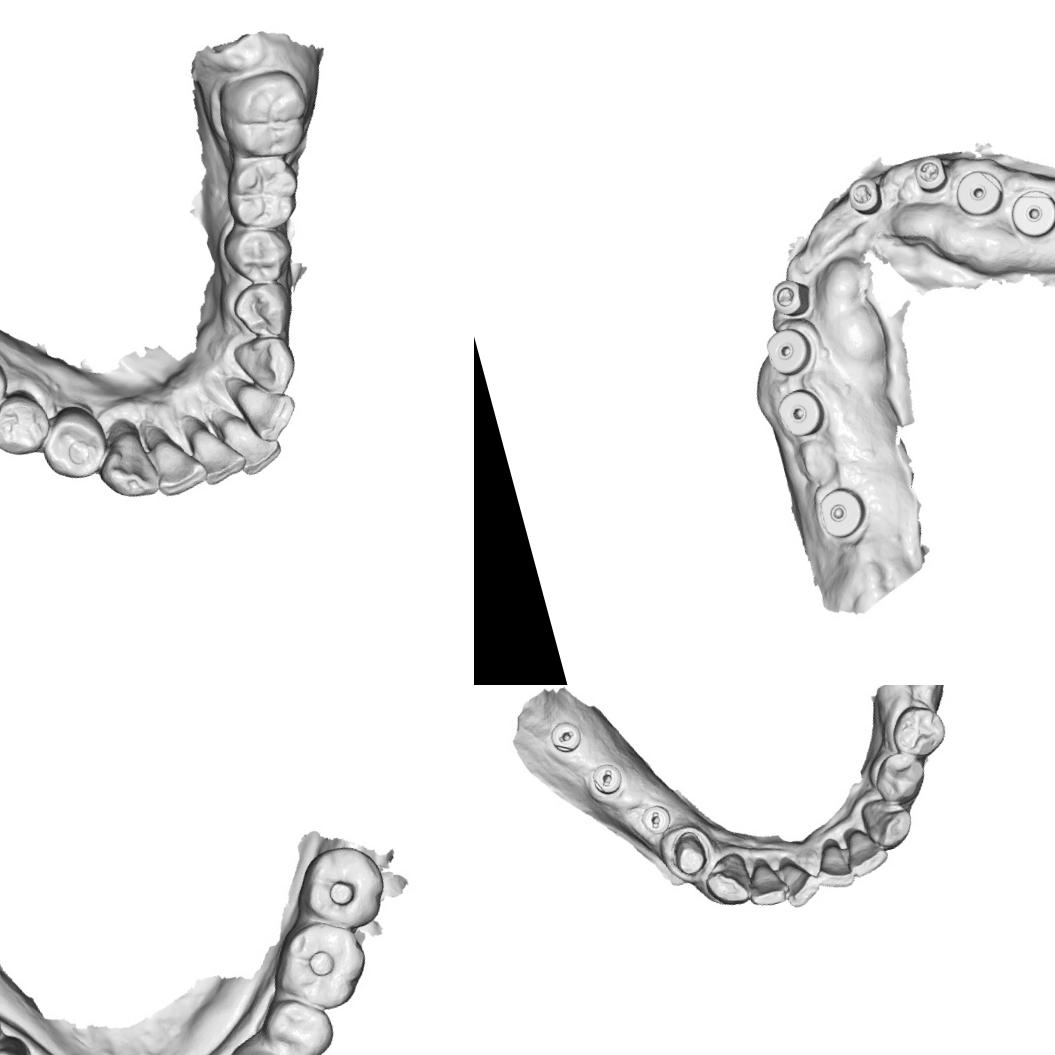canine: (89, 424, 164, 508), (226, 326, 301, 402), (857, 790, 919, 854), (698, 849, 756, 912)
crown: (664, 826, 714, 880)
implant: (810, 482, 873, 544), (770, 381, 831, 444), (948, 162, 1010, 222), (758, 320, 818, 381), (1004, 183, 1055, 242), (764, 272, 814, 322), (840, 172, 888, 219), (908, 150, 954, 198)
implant_minus: (546, 716, 587, 758), (636, 798, 675, 838), (587, 758, 626, 798)
incisor: (216, 398, 286, 480), (236, 366, 306, 448), (185, 411, 244, 489), (145, 429, 210, 499), (808, 837, 861, 894), (839, 822, 891, 879), (776, 855, 825, 910), (742, 858, 792, 911)
molar: (262, 910, 378, 1023), (210, 62, 319, 167), (288, 836, 394, 942), (216, 144, 310, 238)
premolar: (32, 401, 112, 487), (218, 217, 298, 291), (255, 987, 341, 1055), (226, 274, 299, 348), (0, 386, 57, 462), (885, 698, 950, 763), (867, 746, 933, 809), (227, 1039, 305, 1055)
